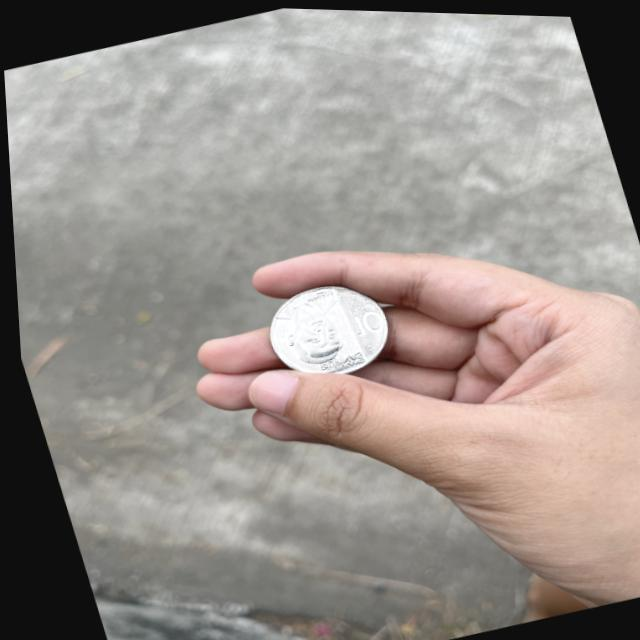10_New_Front: (341, 295, 385, 339)
